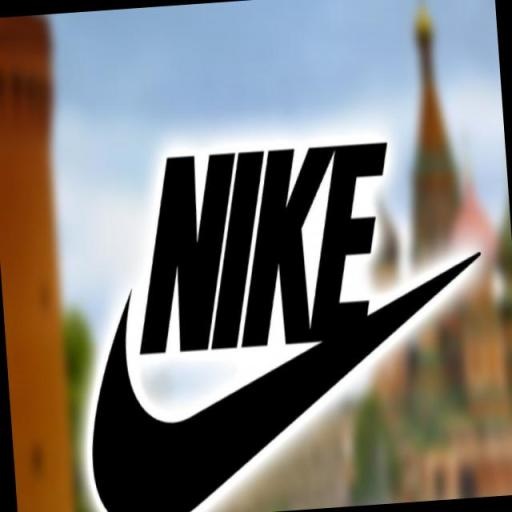Nike: (84, 297, 433, 512), (126, 134, 404, 358)
